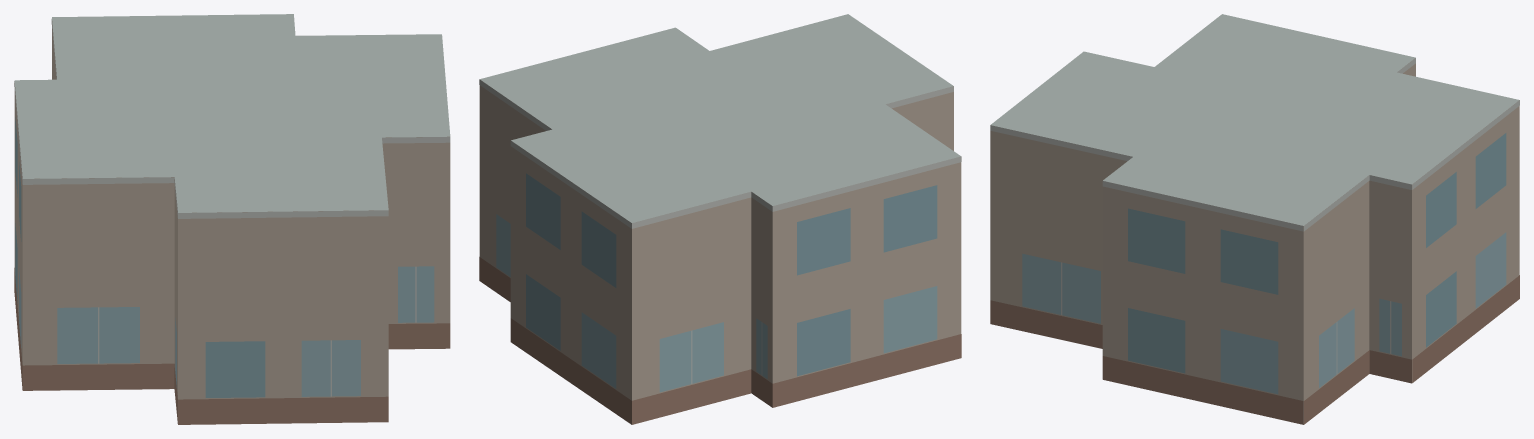
Rendered from survey-upis-32839093.glb.
3 renders of one model, left to right at view 1: azimuth 30°, elevation 25°; view 2: azimuth 150°, elevation 25°; view 3: azimuth 270°, elevation 25°, orthographic. The views are drawn at different scales.
Parts seen in each view (by area): view 1: survey-upis-32839093.tmp; view 2: survey-upis-32839093.tmp; view 3: survey-upis-32839093.tmp.
Boxes of the visible parts, left/top/right/bottom form: survey-upis-32839093.tmp: left=14, top=14, right=450, bottom=424; survey-upis-32839093.tmp: left=479, top=14, right=961, bottom=424; survey-upis-32839093.tmp: left=990, top=14, right=1519, bottom=424.
Bounding box in the file's own units: 19.67 × 8.6 × 20.76.
